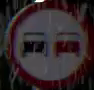No overtake: (5, 1, 93, 87)
